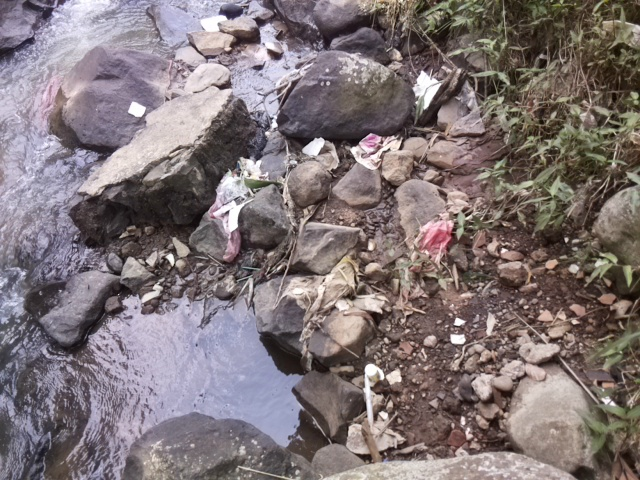Sampah_Plastik: (208, 156, 262, 264), (413, 210, 455, 269), (350, 131, 400, 167)
Sampah_Styrofoam: (413, 71, 441, 116), (299, 135, 324, 159), (199, 14, 229, 33), (360, 361, 384, 383), (127, 99, 146, 119)
